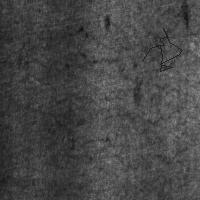crazing: (25, 27, 183, 163), (142, 28, 182, 71)
